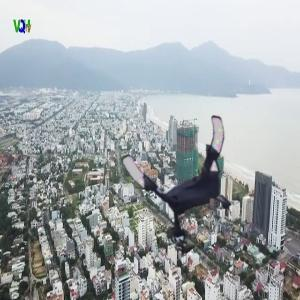drone: (135, 118, 253, 236)
